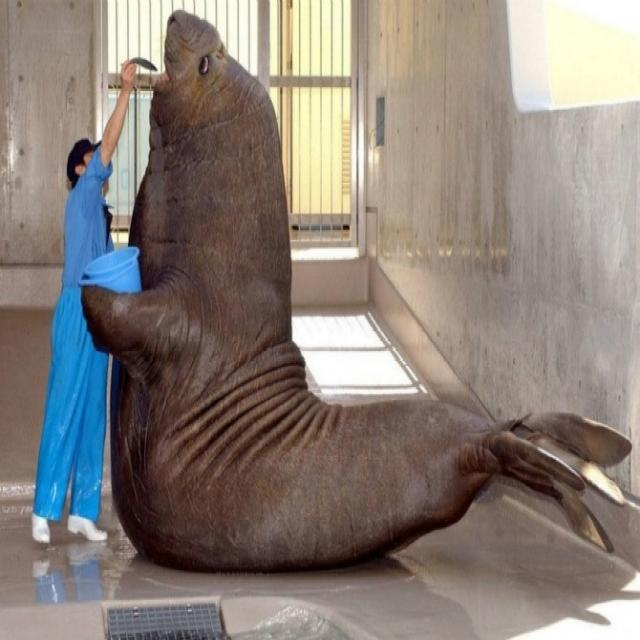walrus: (70, 9, 626, 594)
